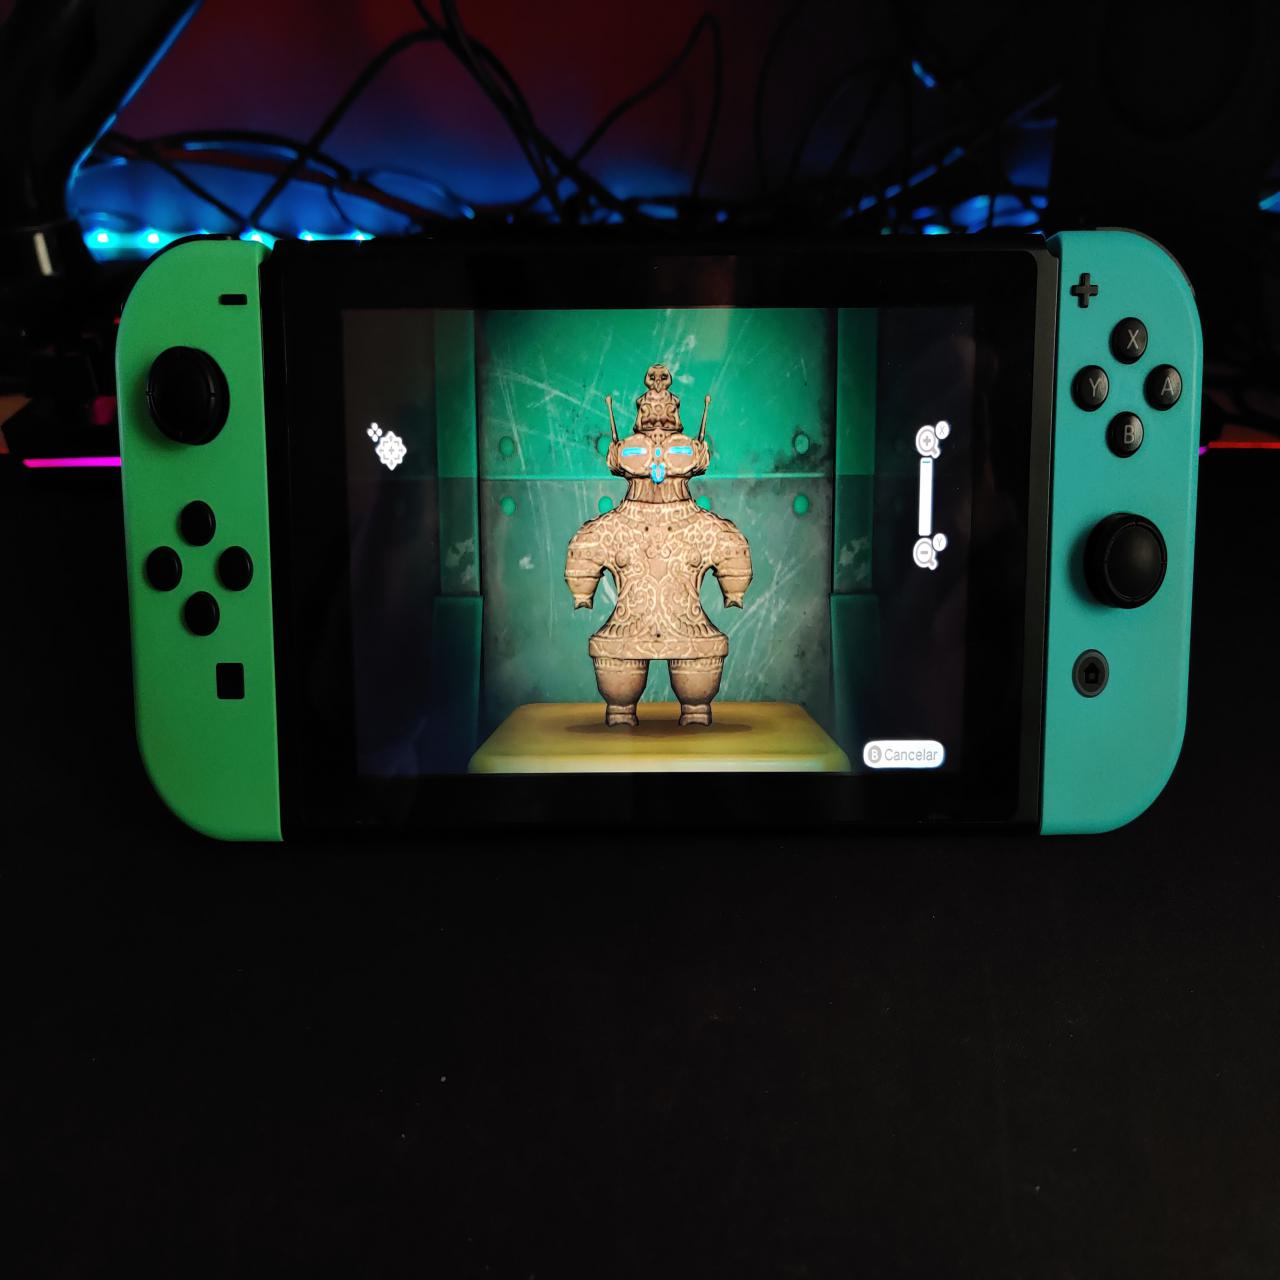DoguuFake: (559, 352, 753, 731)
